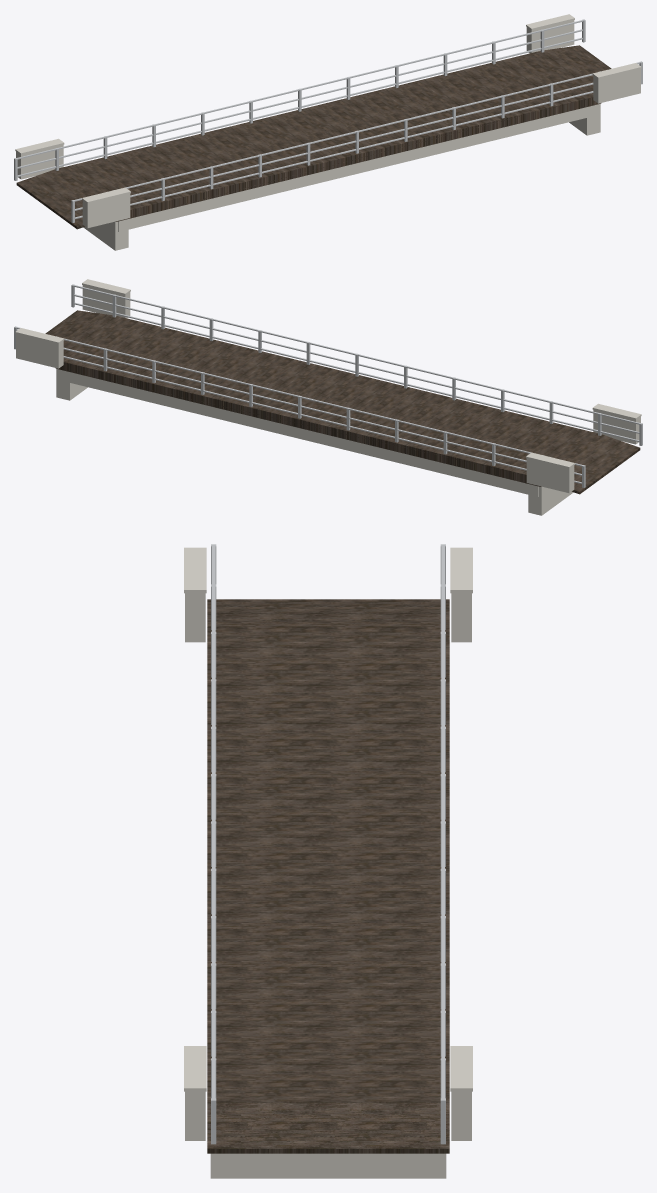
Rendered from bridge.glb.
3 renders of one model, top to bottom at view 1: azimuth 30°, elevation 25°; view 2: azimuth 150°, elevation 25°; view 3: azimuth 270°, elevation 25°, orthographic. The views are drawn at different scales.
Visible parts, largest first — view 1: BridgeDeck, BridgeConcrete, BridgeSteel; view 2: BridgeDeck, BridgeConcrete, BridgeSteel; view 3: BridgeDeck, BridgeConcrete, BridgeSteel.
Part boxes in pixels (x1,y1,x2,y2): BridgeDeck: (16, 45, 611, 229); BridgeConcrete: (15, 14, 641, 250); BridgeSteel: (14, 19, 642, 222); BridgeDeck: (45, 310, 640, 494); BridgeConcrete: (15, 279, 641, 515); BridgeSteel: (14, 284, 642, 487); BridgeDeck: (207, 599, 449, 1153); BridgeConcrete: (184, 547, 472, 1178); BridgeSteel: (211, 544, 445, 1144).
Bounding box in the file's own units: 29.37 × 3.05 × 6.44.
3 materials, 1 textured.
